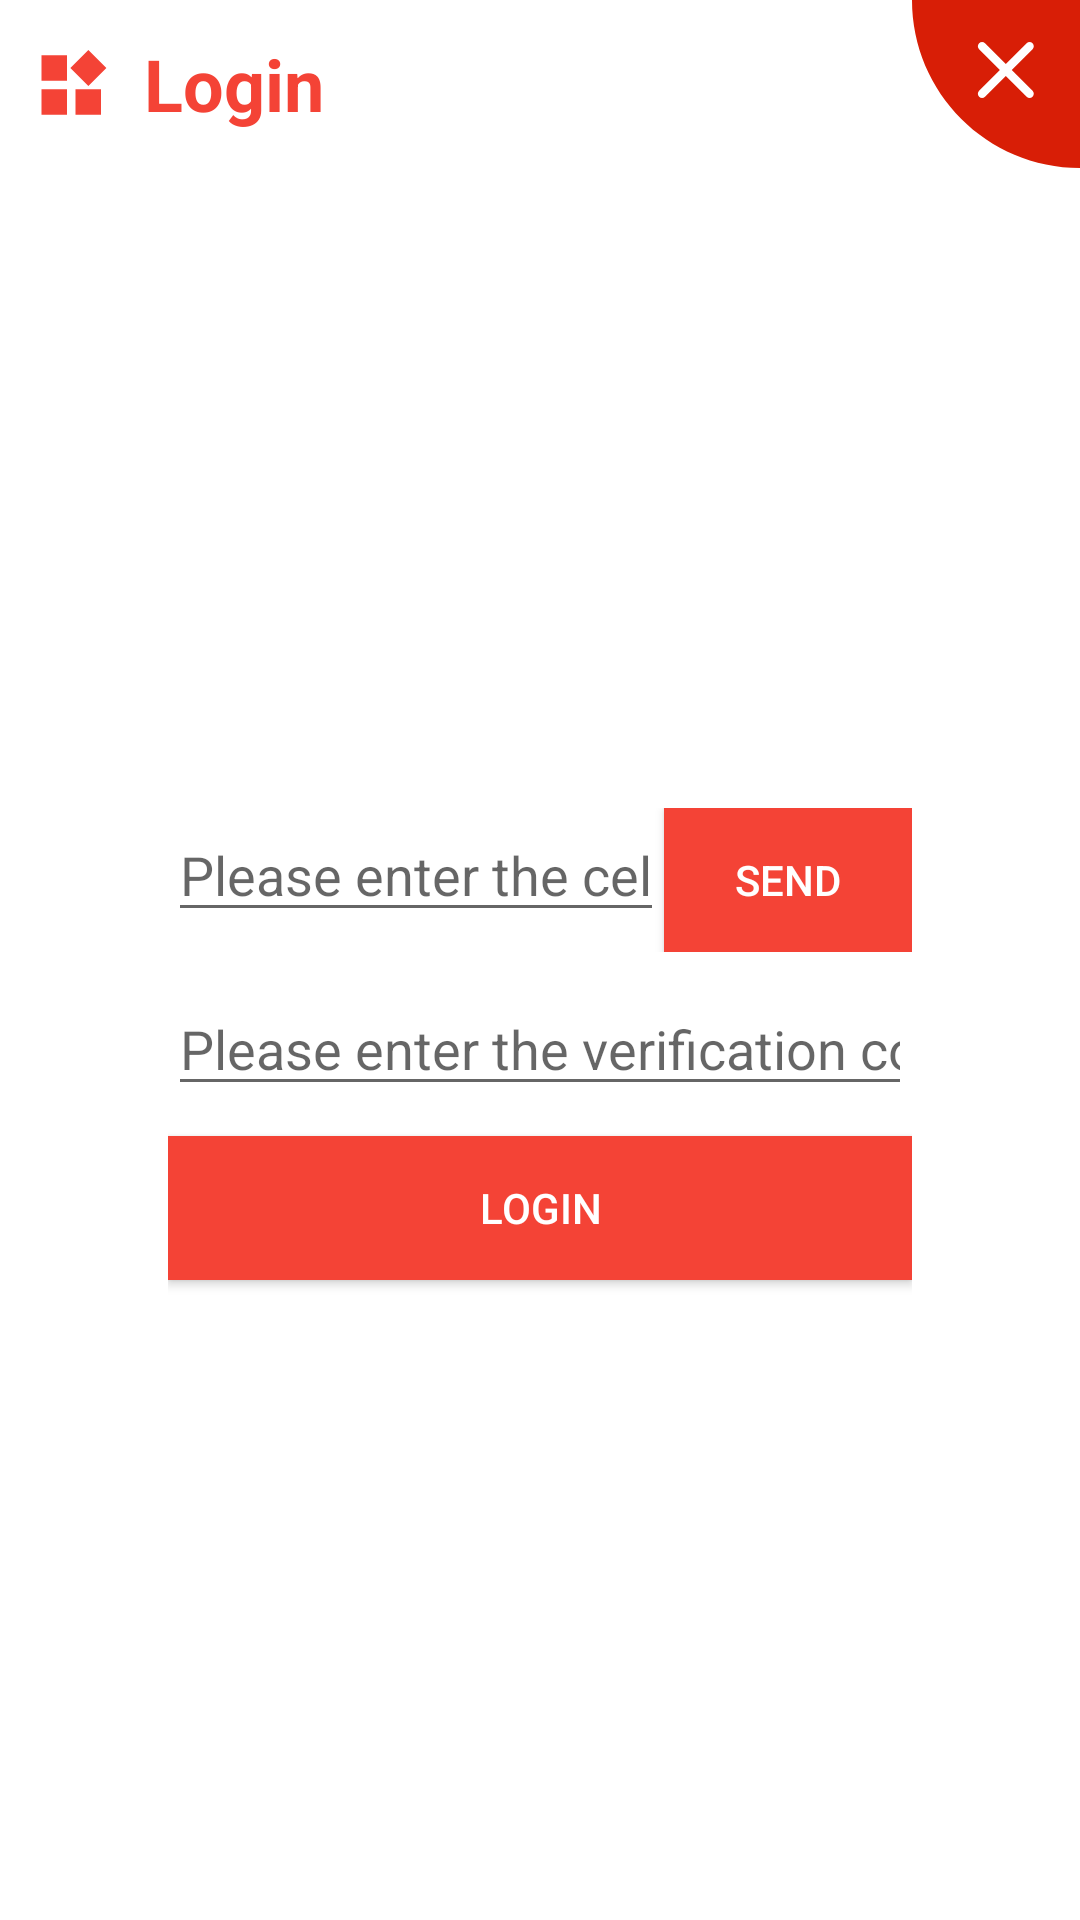

Locate icon controls on the screen. Image size 1080px x 1920px, boxes as {"x1": x1, "y1": y1, "x2": x2, "y2": y2}.
close: {"x1": 912, "y1": 0, "x2": 1080, "y2": 168}
